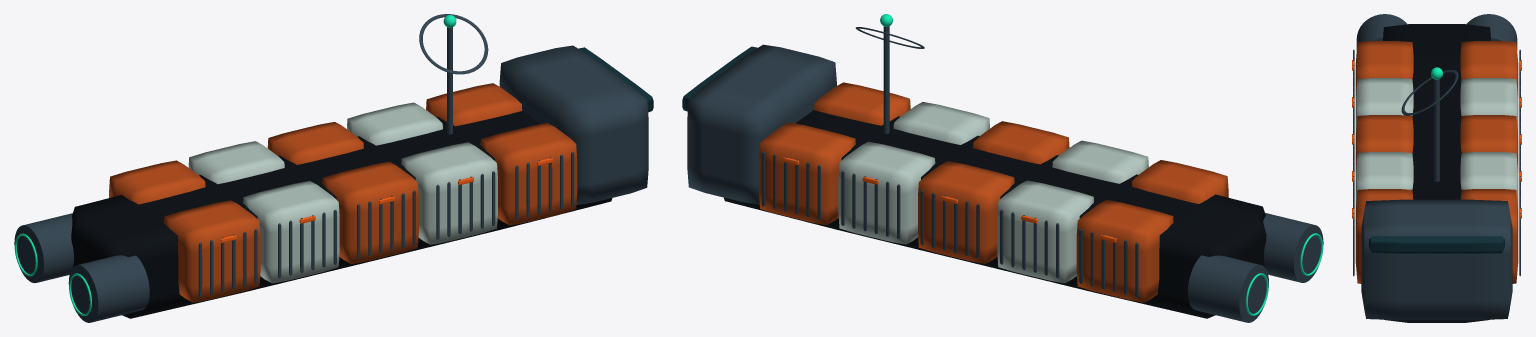
File: freighter-08.obj
3 views of the same model, side by side, from view 1: azimuth 30°, elevation 25°; view 2: azimuth 150°, elevation 25°; view 3: azimuth 270°, elevation 25° (orthographic). The views are drawn at different scales.
Parts seen in each view (by area): view 1: beveled-plate_part_1, beveled-plate_part_82, beveled-plate_part_10, beveled-plate_part_26, beveled-plate_part_42, beveled-plate_part_58, beveled-plate_part_74, cylinder_part_88, cylinder_part_87, beveled-plate_part_2, beveled-plate_part_18, beveled-plate_part_50 (+5 smaller); view 2: beveled-plate_part_1, beveled-plate_part_82, beveled-plate_part_2, beveled-plate_part_50, beveled-plate_part_18, beveled-plate_part_34, beveled-plate_part_66, cylinder_part_87, cylinder_part_88, beveled-plate_part_10, beveled-plate_part_26, beveled-plate_part_42 (+4 smaller); view 3: beveled-plate_part_82, beveled-plate_part_1, beveled-plate_part_83, beveled-plate_part_2, beveled-plate_part_10, beveled-plate_part_18, beveled-plate_part_34, beveled-plate_part_42, beveled-plate_part_50, beveled-plate_part_58, beveled-plate_part_26, beveled-plate_part_66 (+5 smaller).
Boxes of the visible parts, x1,y1,x2,y2 form: beveled-plate_part_1: [71, 110, 612, 318]; beveled-plate_part_82: [499, 45, 648, 204]; beveled-plate_part_10: [164, 200, 260, 302]; beveled-plate_part_26: [243, 181, 339, 283]; beveled-plate_part_42: [322, 161, 418, 263]; beveled-plate_part_58: [401, 142, 497, 244]; beveled-plate_part_74: [480, 123, 577, 225]; cylinder_part_88: [68, 255, 149, 322]; cylinder_part_87: [14, 213, 73, 283]; beveled-plate_part_2: [109, 160, 205, 204]; beveled-plate_part_18: [188, 141, 284, 184]; beveled-plate_part_50: [347, 102, 442, 145]; beveled-plate_part_1: [724, 110, 1266, 318]; beveled-plate_part_82: [687, 44, 836, 204]; beveled-plate_part_2: [1076, 200, 1173, 302]; beveled-plate_part_50: [838, 141, 935, 244]; beveled-plate_part_18: [997, 180, 1093, 283]; beveled-plate_part_34: [918, 161, 1014, 263]; beveled-plate_part_66: [759, 122, 855, 225]; cylinder_part_87: [1187, 255, 1268, 322]; cylinder_part_88: [1263, 213, 1323, 282]; beveled-plate_part_10: [1131, 160, 1228, 203]; beveled-plate_part_26: [1052, 140, 1148, 183]; beveled-plate_part_42: [973, 121, 1069, 164]; beveled-plate_part_82: [1361, 199, 1512, 320]; beveled-plate_part_1: [1383, 24, 1490, 322]; beveled-plate_part_83: [1369, 236, 1504, 253]; beveled-plate_part_2: [1460, 41, 1518, 98]; beveled-plate_part_10: [1355, 41, 1413, 98]; beveled-plate_part_18: [1460, 78, 1518, 135]; beveled-plate_part_34: [1460, 115, 1518, 172]; beveled-plate_part_42: [1355, 115, 1413, 172]; beveled-plate_part_50: [1460, 152, 1518, 209]; beveled-plate_part_58: [1355, 152, 1413, 209]; beveled-plate_part_26: [1355, 78, 1413, 135]; beveled-plate_part_66: [1460, 189, 1518, 283].
Bounding box in the file's own units: 13.27 × 4.48 × 3.59.
